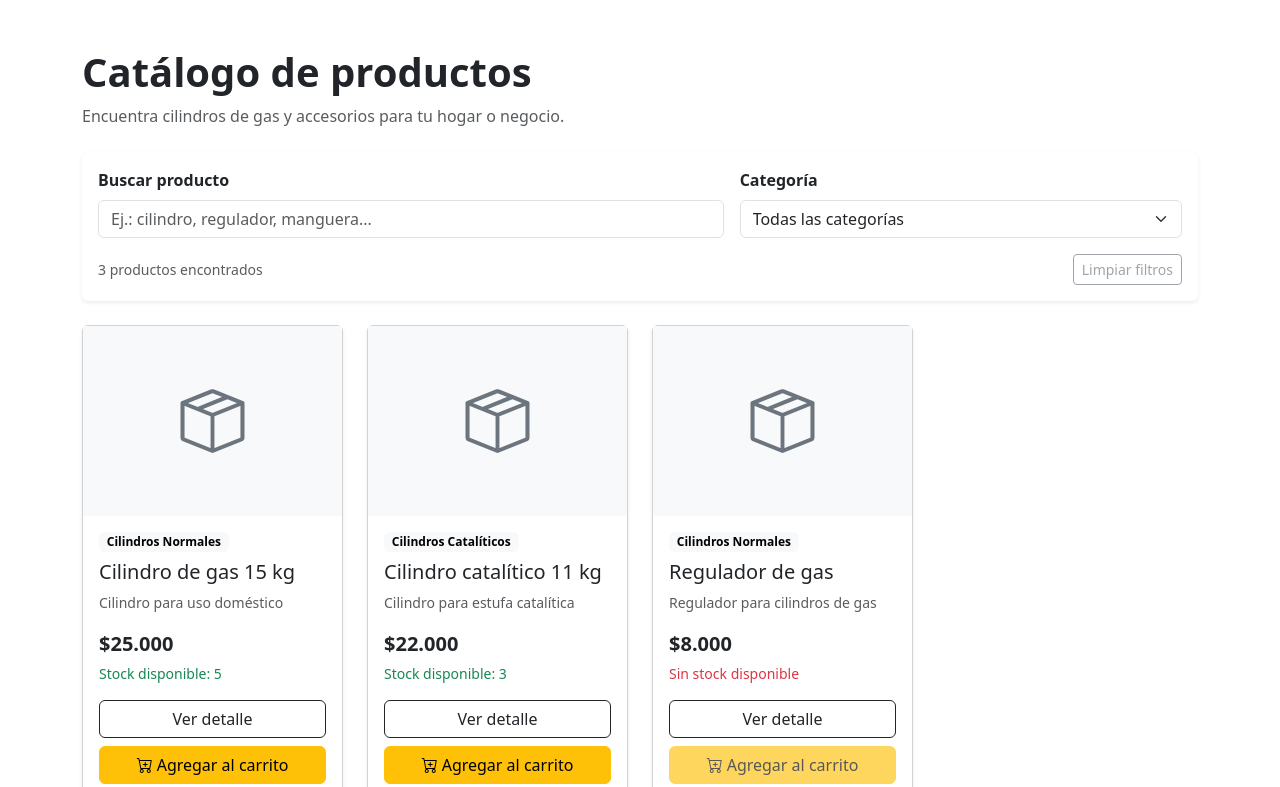
Test case: Products › filtra los productos por la categoría seleccionada
Select "Cilindros Catalíticos" in the dropdown labelled "Categoría" at (961, 219), box [740,200,1182,238]
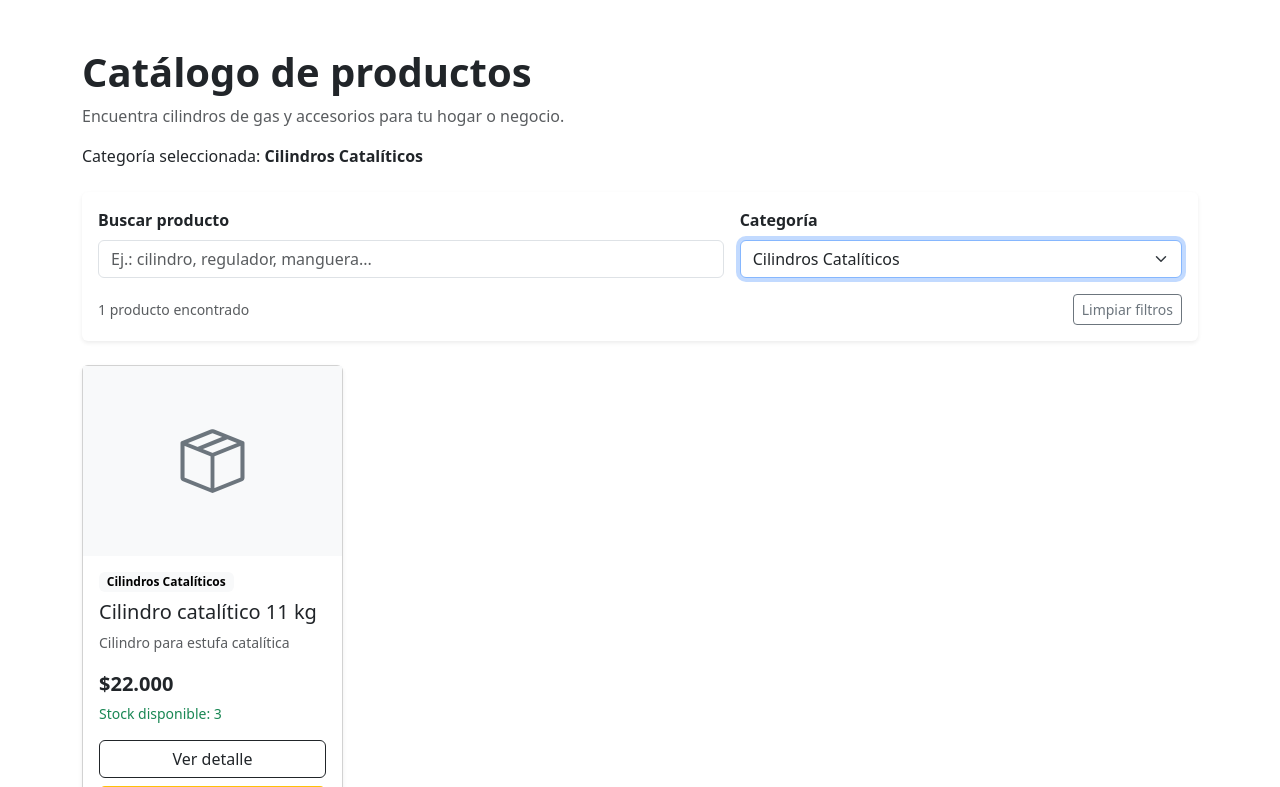
Now the heading "Cilindro de gas 15 kg" is gone
Now the heading "Regulador de gas" is gone
Now the text "1 producto encontrado" is shown, box [98,299,249,320]
